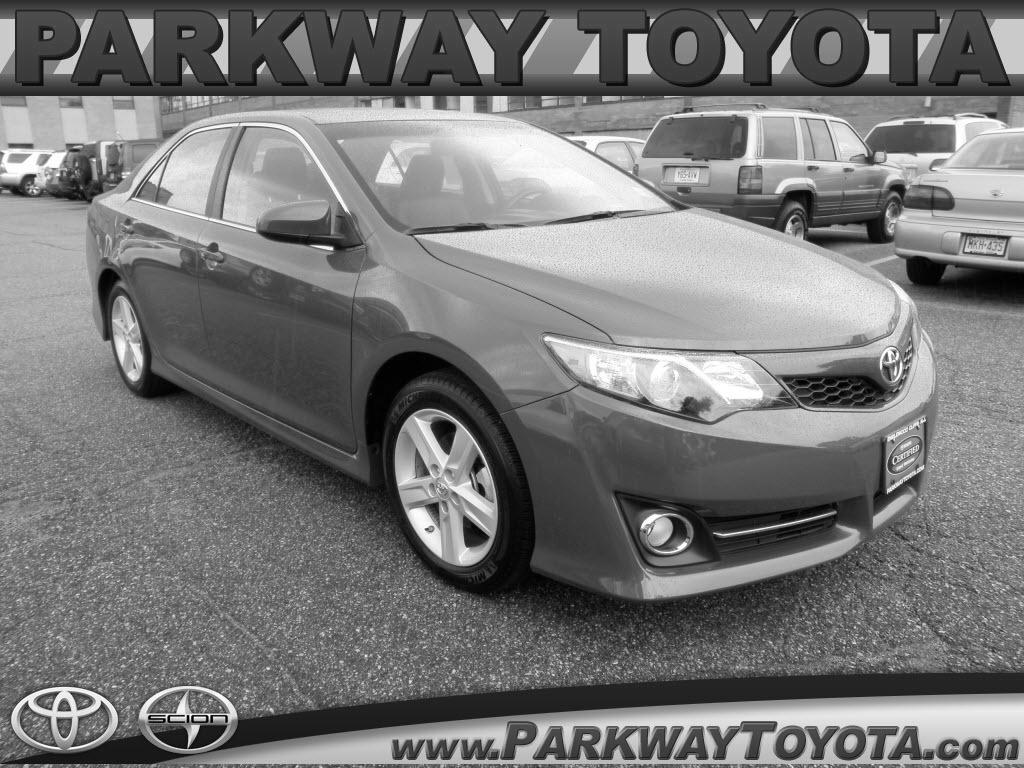car: (85, 107, 938, 608)
